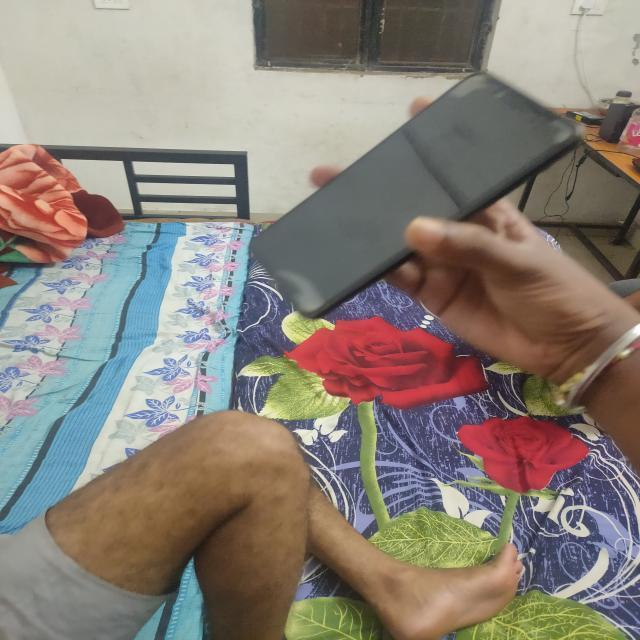Phone: (247, 72, 583, 323)
